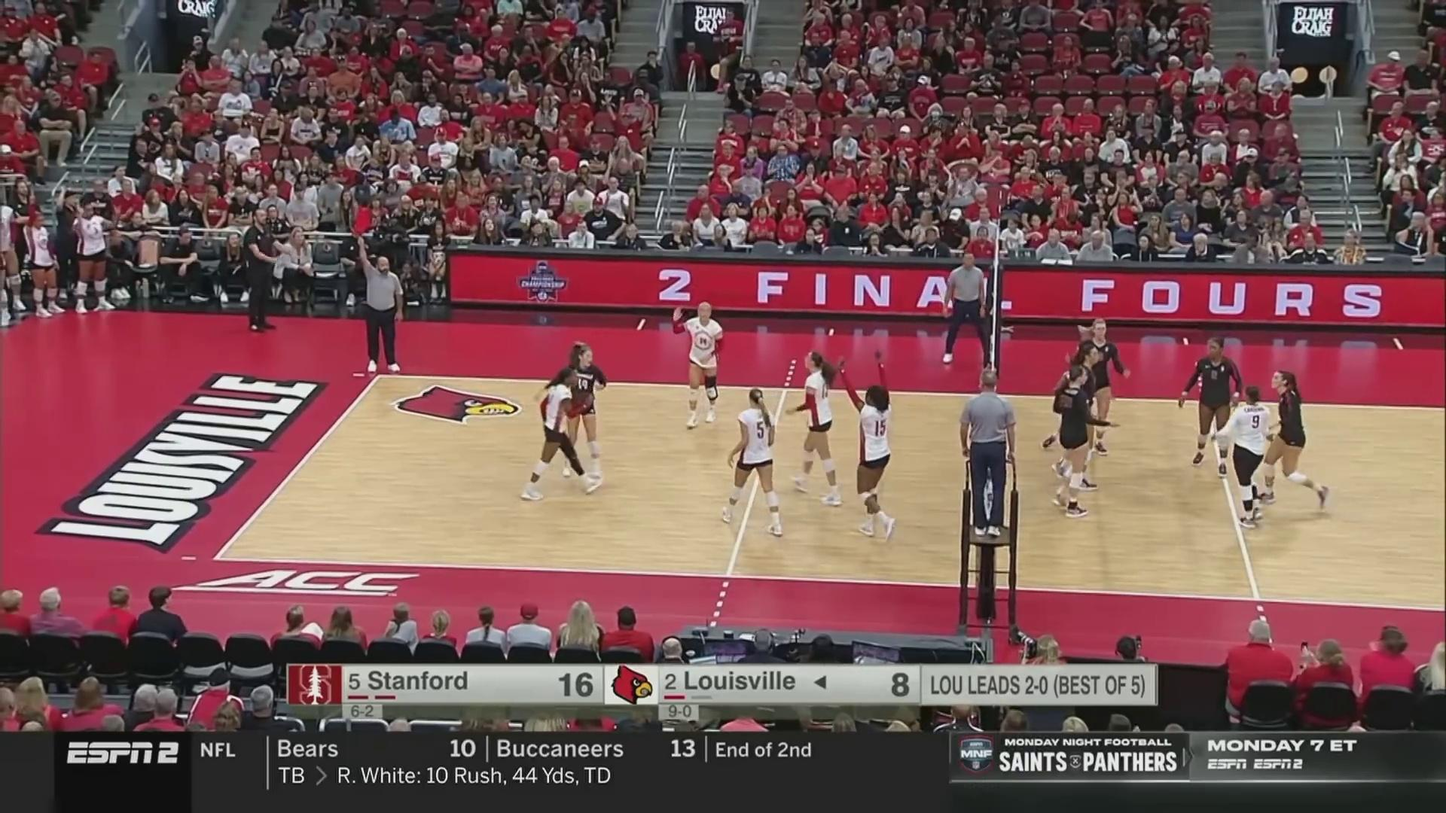player: (1042, 317, 1129, 455), (839, 356, 898, 539), (523, 369, 604, 501), (1257, 368, 1331, 509), (1054, 364, 1116, 521), (1176, 336, 1242, 473), (722, 390, 783, 534), (784, 352, 839, 507), (545, 340, 607, 477), (1217, 386, 1271, 533), (1057, 345, 1106, 487), (675, 302, 725, 426)
refree: (959, 367, 1017, 536), (357, 239, 404, 375), (942, 254, 990, 366)
